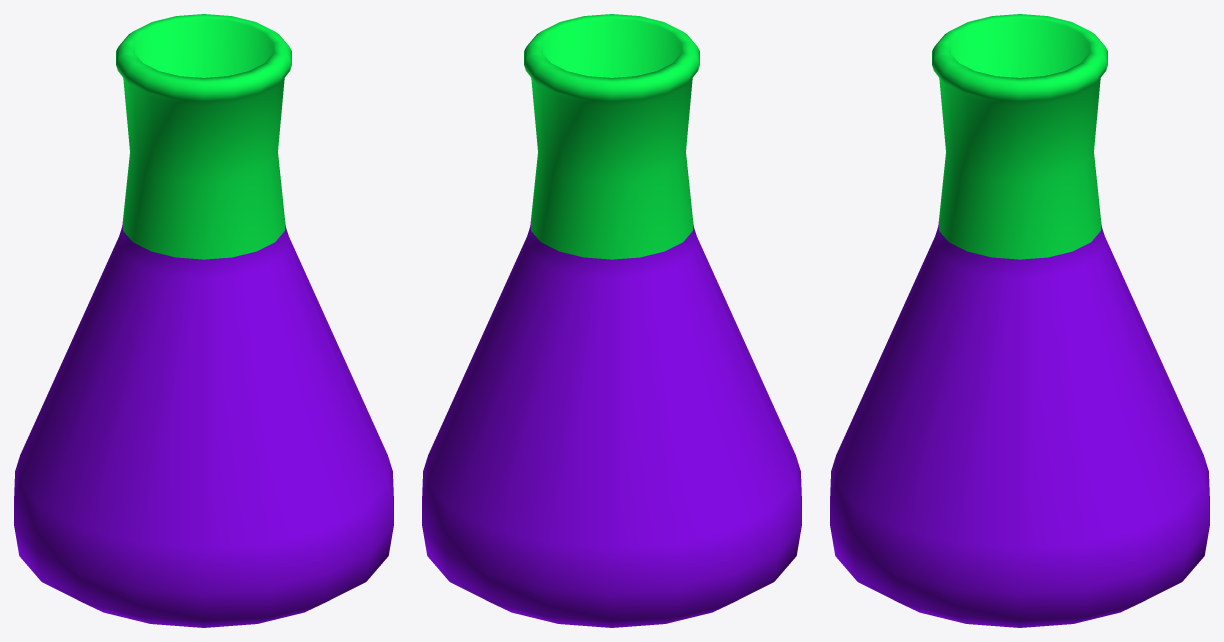
The model's file is Beaker.fbx.
The picture shows the model from 3 angles, left to right: view 1: azimuth 30°, elevation 25°; view 2: azimuth 150°, elevation 25°; view 3: azimuth 270°, elevation 25°; orthographic projection.
Parts seen in each view (by area): view 1: Cylinder001; view 2: Cylinder001; view 3: Cylinder001.
Part boxes in pixels (left/top/right/bottom): Cylinder001: left=14, top=14, right=393, bottom=627; Cylinder001: left=422, top=14, right=801, bottom=627; Cylinder001: left=830, top=14, right=1209, bottom=627.
Size of the model in its own units: 89.33 by 135 by 87.98.
